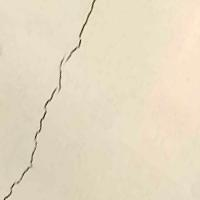crack: (0, 0, 121, 199)
